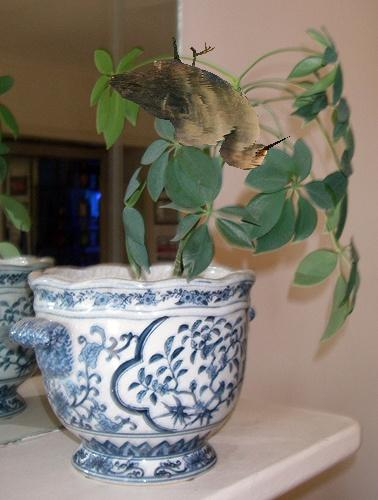tampered: (110, 38, 291, 170)
